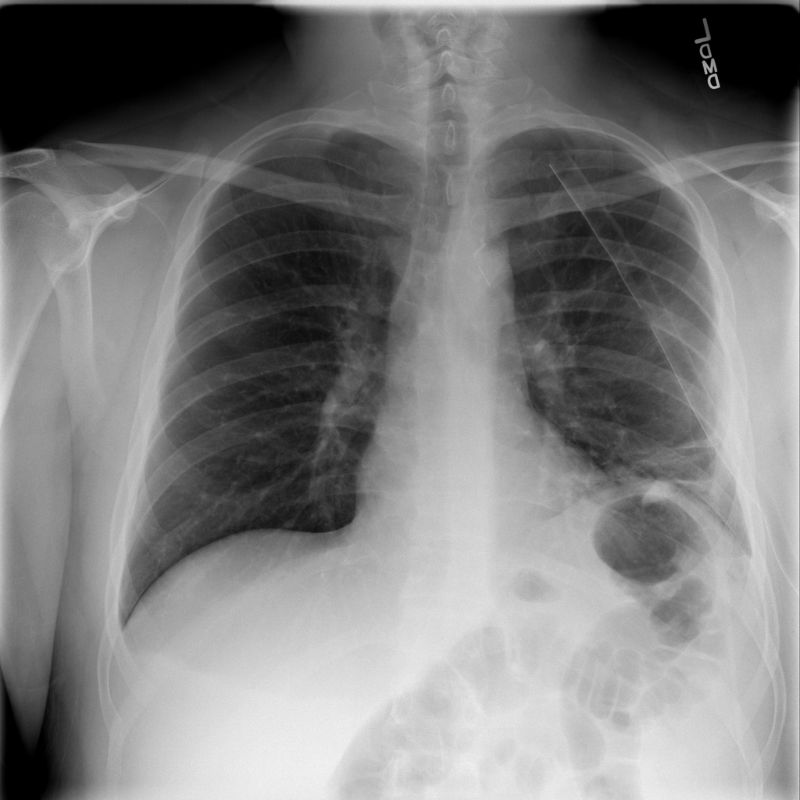PLEURAL EFFUSION: (626, 452, 765, 665)
